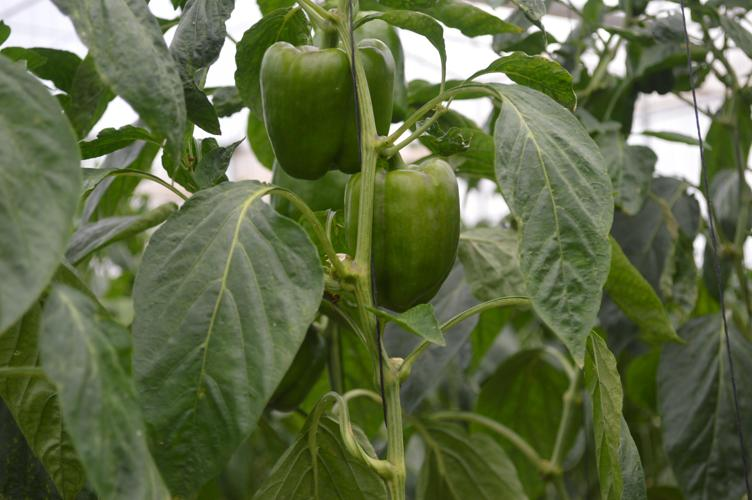BellPepper: (257, 43, 395, 176), (348, 162, 461, 307)
